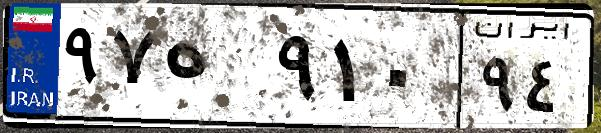0: (385, 28, 445, 110)
1: (330, 28, 385, 110)
4: (525, 38, 570, 115)
7: (110, 28, 158, 98)
9: (270, 28, 330, 110), (57, 26, 110, 100), (475, 38, 525, 113)
ه: (158, 20, 270, 120)
